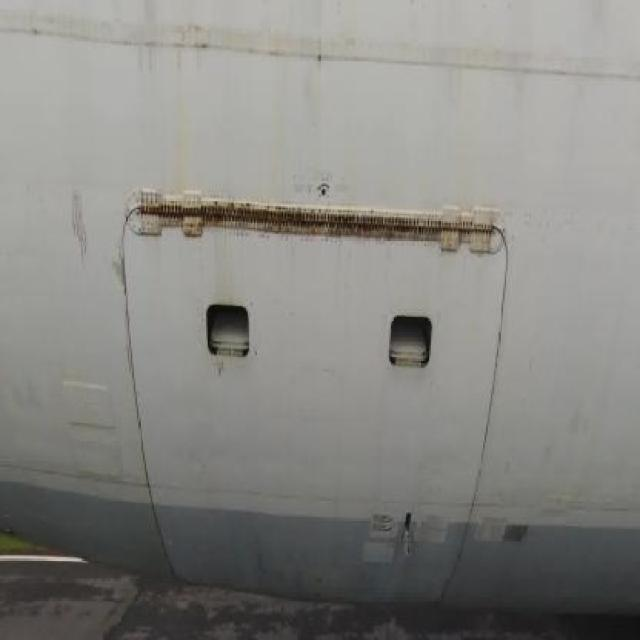Scartch: (208, 104, 366, 236)
